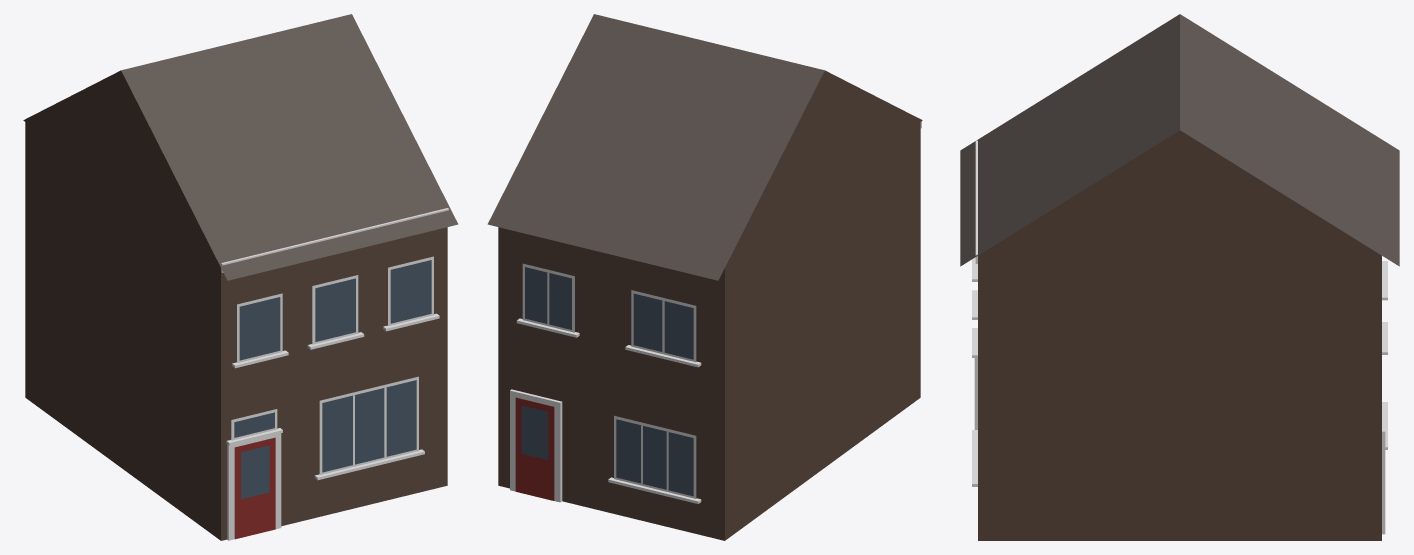
Rendered from nd-to-row__triple__2__gable__long__solid__f0d0.glb.
3 renders of one model, left to right at view 1: azimuth 30°, elevation 25°; view 2: azimuth 150°, elevation 25°; view 3: azimuth 270°, elevation 25°, orthographic. The views are drawn at different scales.
Visible parts, largest first — view 1: nd-to-row__triple__2__gable__long__solid__f0d0; view 2: nd-to-row__triple__2__gable__long__solid__f0d0; view 3: nd-to-row__triple__2__gable__long__solid__f0d0.
Boxes of the visible parts, <box> form: nd-to-row__triple__2__gable__long__solid__f0d0: <box>23,14,458,540</box>; nd-to-row__triple__2__gable__long__solid__f0d0: <box>487,14,922,540</box>; nd-to-row__triple__2__gable__long__solid__f0d0: <box>960,14,1399,540</box>.
Bounding box in the file's own units: 5.38 × 8.9 × 8.61.
